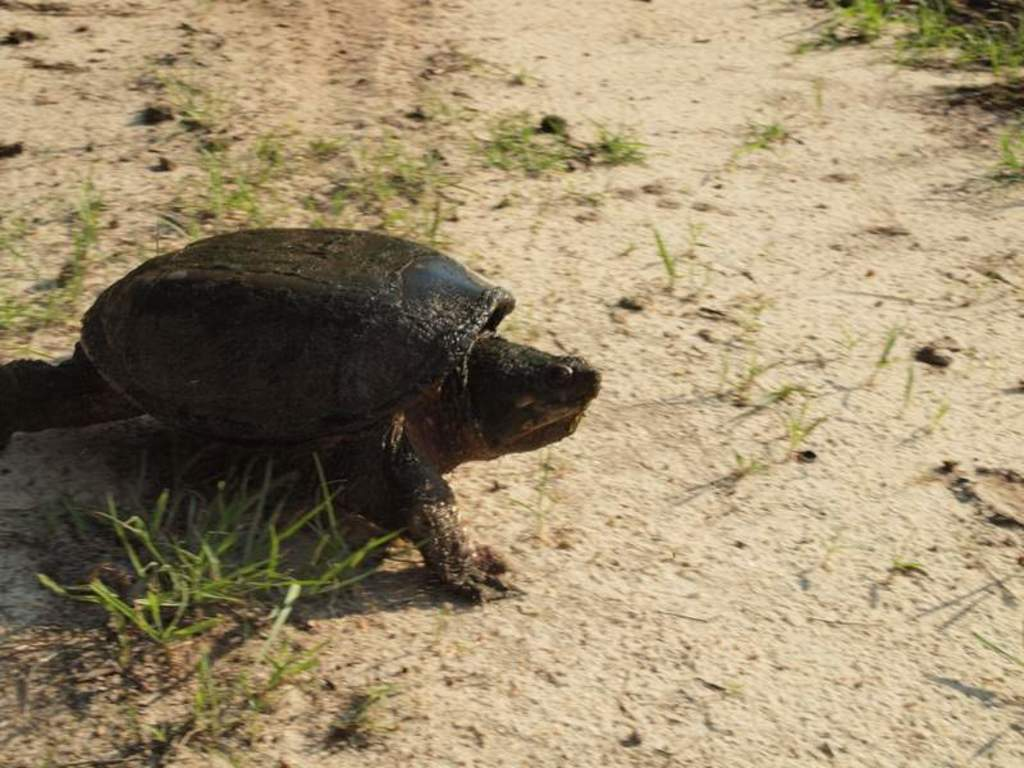Sea turtles: (0, 216, 602, 618)
